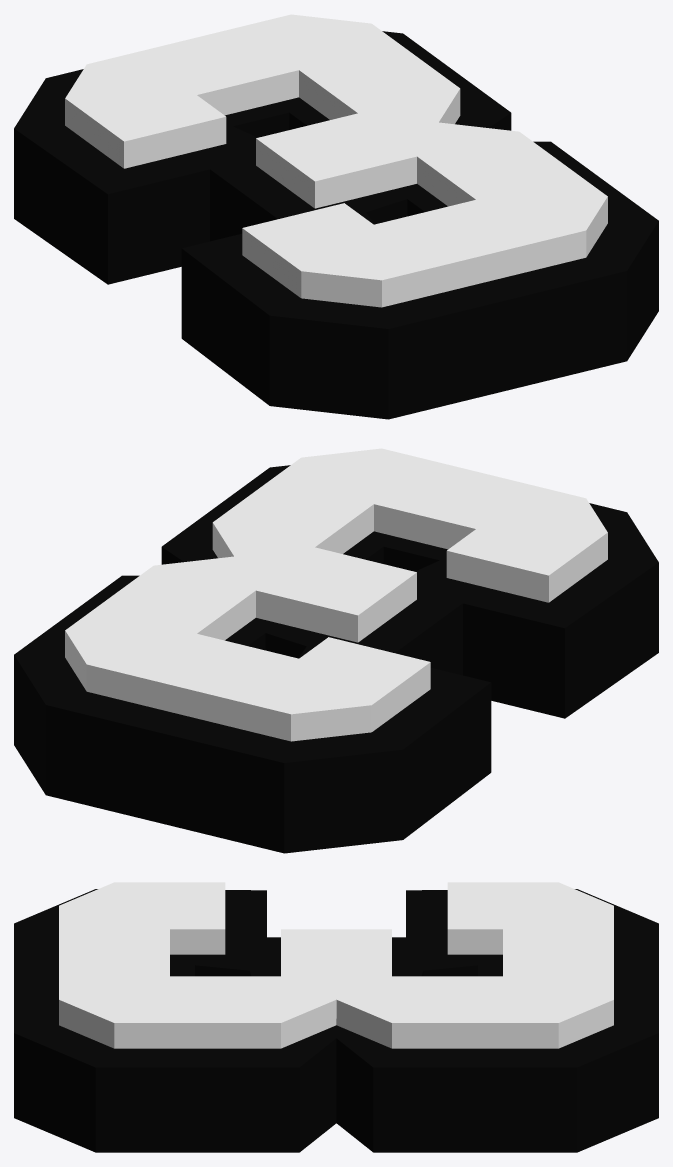
File: txt_3.glb
3 renders of one model, top to bottom at view 1: azimuth 30°, elevation 25°; view 2: azimuth 150°, elevation 25°; view 3: azimuth 270°, elevation 25°, orthographic. The views are drawn at different scales.
Visible parts, largest first — view 1: 3.001; view 2: 3.001; view 3: 3.001.
Boxes of the visible parts, box(x1,y1,x2,y2) form: 3.001: box(14, 14, 658, 419); 3.001: box(14, 448, 658, 853); 3.001: box(14, 882, 658, 1152).
Bounding box in the file's own units: 0.6854 × 0.1978 × 1.05.
Materials: 1 (1 with a texture image).
